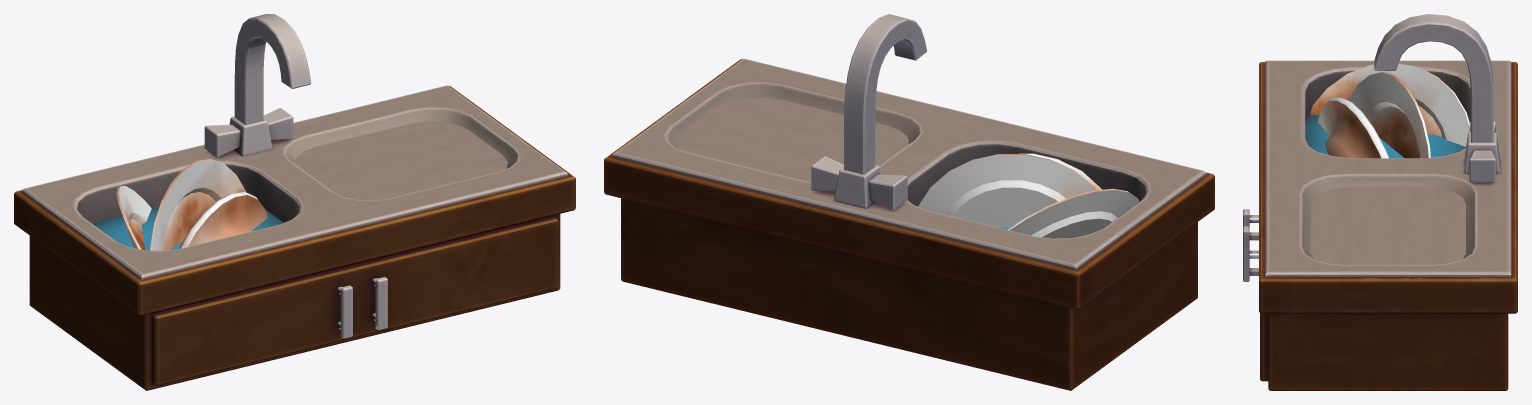
The model's file is washSink.gltf.
The picture shows the model from 3 angles, left to right: view 1: azimuth 30°, elevation 25°; view 2: azimuth 150°, elevation 25°; view 3: azimuth 270°, elevation 25°; orthographic projection. The views are drawn at different scales.
Parts seen in each view (by area): view 1: washSink, dirtyPlate1, dirtyPlate2, water, dirtyPlate3; view 2: washSink, dirtyPlate1, dirtyPlate3; view 3: washSink, dirtyPlate3, dirtyPlate1, dirtyPlate2, water.
Part boxes in pixels (x1,y1,x2,y2): washSink: (14,14,575,390); dirtyPlate1: (150,159,245,250); dirtyPlate2: (179,192,267,248); water: (93,206,283,250); dirtyPlate3: (116,186,151,250); washSink: (604,14,1214,390); dirtyPlate1: (918,154,1096,227); dirtyPlate3: (1007,188,1139,238); washSink: (1243,14,1517,390); dirtyPlate3: (1310,63,1469,146); dirtyPlate1: (1348,72,1430,158); dirtyPlate2: (1318,97,1388,158); water: (1305,114,1470,158).
Bounding box in the file's own units: 4 × 2.3 × 2.12.
Materials: 3 (3 with a texture image).
